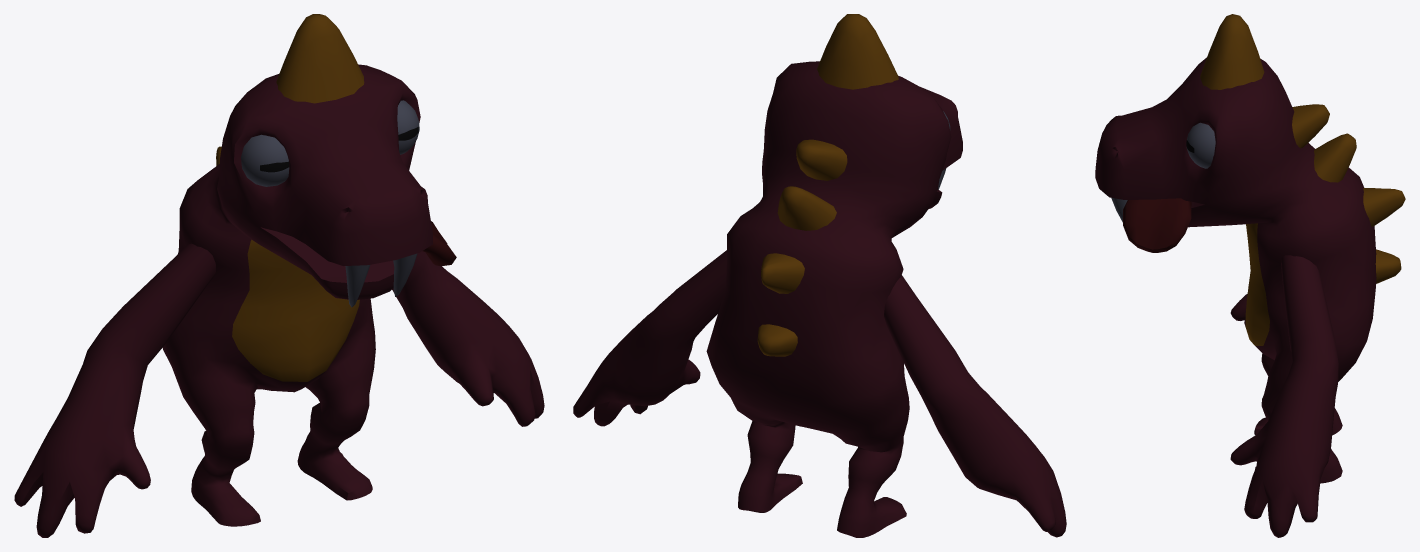
Rendered from Dino.obj.
3 renders of one model, left to right at view 1: azimuth 30°, elevation 25°; view 2: azimuth 150°, elevation 25°; view 3: azimuth 270°, elevation 25°, orthographic. The views are drawn at different scales.
Visible parts, largest first — view 1: Dino_Cube.081; view 2: Dino_Cube.081; view 3: Dino_Cube.081.
Boxes of the visible parts, x1,y1,x2,y2 form: Dino_Cube.081: (14, 14, 544, 537); Dino_Cube.081: (573, 14, 1066, 537); Dino_Cube.081: (1095, 14, 1405, 537).
Bounding box in the file's own units: 3.23 × 3.03 × 1.94.
